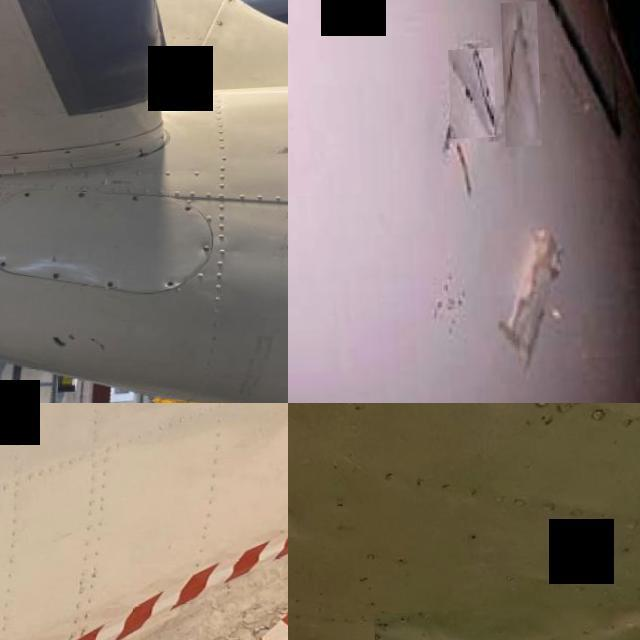Dent: (500, 6, 539, 149), (447, 53, 492, 140)
Missing_Fastener: (162, 282, 172, 292), (102, 284, 114, 292), (180, 208, 190, 216), (20, 193, 29, 201), (187, 84, 195, 90), (0, 262, 5, 270), (60, 153, 70, 156), (227, 3, 233, 8), (8, 158, 17, 161), (112, 146, 119, 148)
